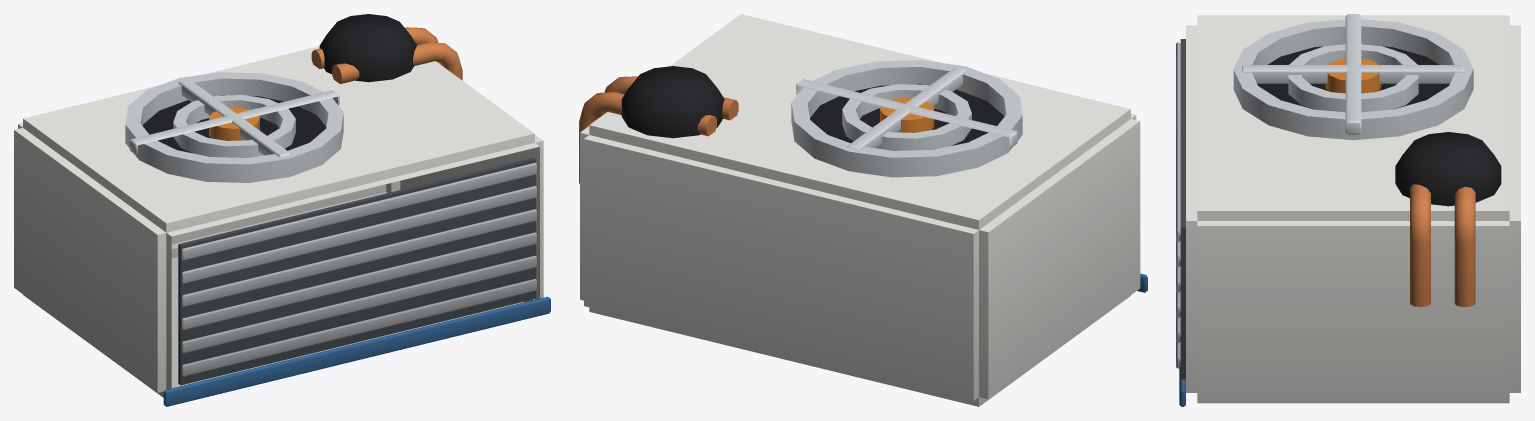
File: SM_WalkIn_Condenser_01.glb
The picture shows the model from 3 angles, left to right: view 1: azimuth 30°, elevation 25°; view 2: azimuth 150°, elevation 25°; view 3: azimuth 270°, elevation 25°; orthographic projection. The views are drawn at different scales.
Parts seen in each view (by area): view 1: SM_WalkIn_Condenser_01; view 2: SM_WalkIn_Condenser_01; view 3: SM_WalkIn_Condenser_01.
Part boxes in pixels (x1,y1,x2,y2): SM_WalkIn_Condenser_01: (14, 14, 550, 406); SM_WalkIn_Condenser_01: (579, 14, 1147, 406); SM_WalkIn_Condenser_01: (1176, 14, 1520, 406).
Size of the model in its own units: 0.915 by 0.46 by 0.618.
1 material, 1 textured.
